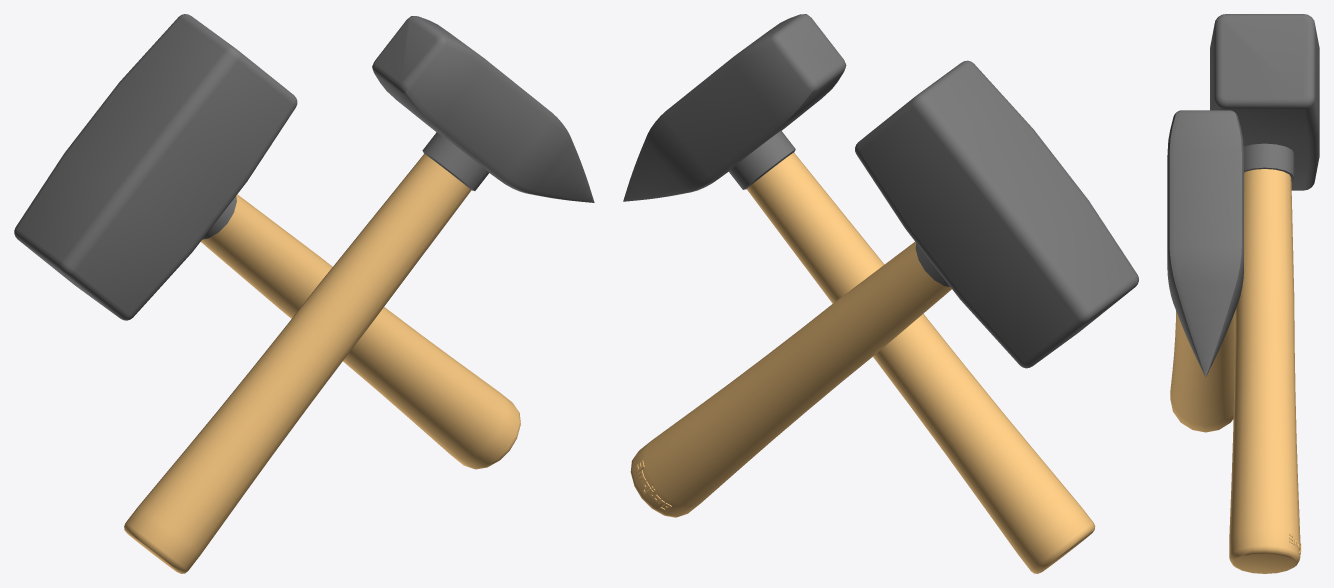
Rendered from hammer_and_pick.fbx.
3 renders of one model, left to right at view 1: azimuth 30°, elevation 25°; view 2: azimuth 150°, elevation 25°; view 3: azimuth 270°, elevation 25°, orthographic. The views are drawn at different scales.
Visible parts, largest first — view 1: Circle.2584; view 2: Circle.2584; view 3: Circle.2584.
Boxes of the visible parts, left/top/right/bottom form: Circle.2584: left=14, top=14, right=594, bottom=573; Circle.2584: left=623, top=14, right=1138, bottom=573; Circle.2584: left=1167, top=14, right=1319, bottom=573.
Size of the model in its own units: 237 by 215 by 66.64.
Materials: 1 (1 with a texture image).
